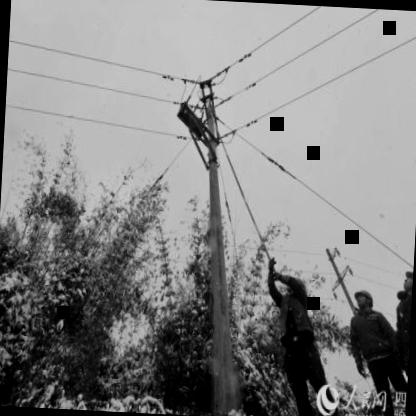helmet: (350, 284, 377, 314), (398, 262, 414, 306)
